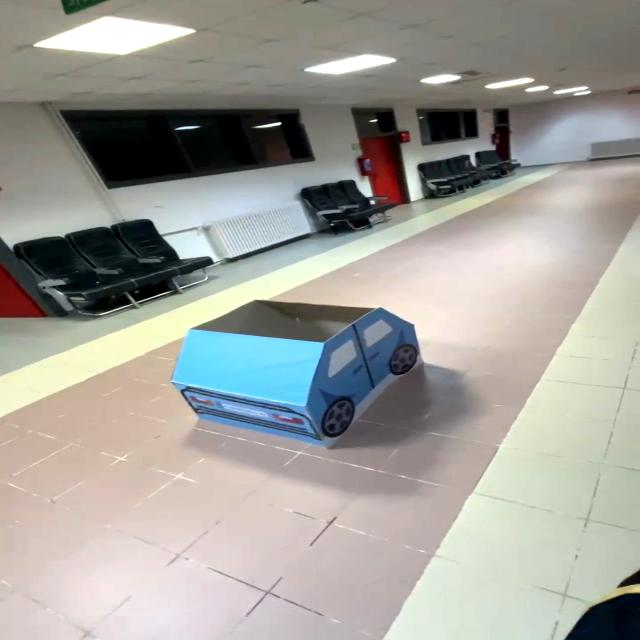blue_car: (135, 279, 482, 466)
